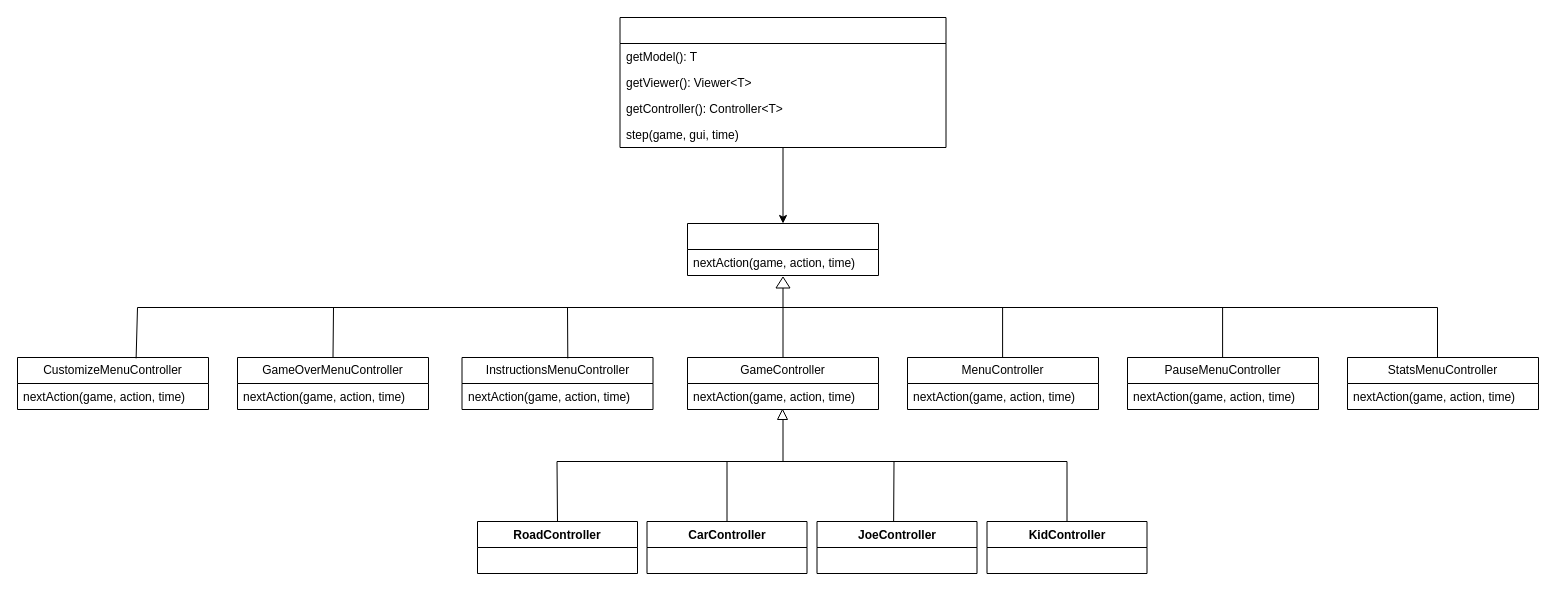
The diagram is 1556 pixels wide and 591 high, and some of its shapes have lost their labels. The shapes that lost their labels are listed below. From the top down, each one's box as (x1, y1, x2, y2) in pixels, then its label:
(619, 16, 946, 148): State<T>
(686, 222, 878, 276): Controller<T>
